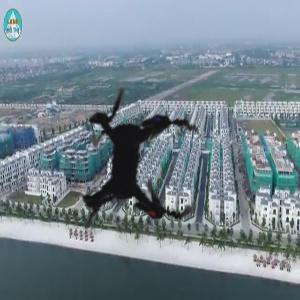drone: (2, 29, 261, 288)
